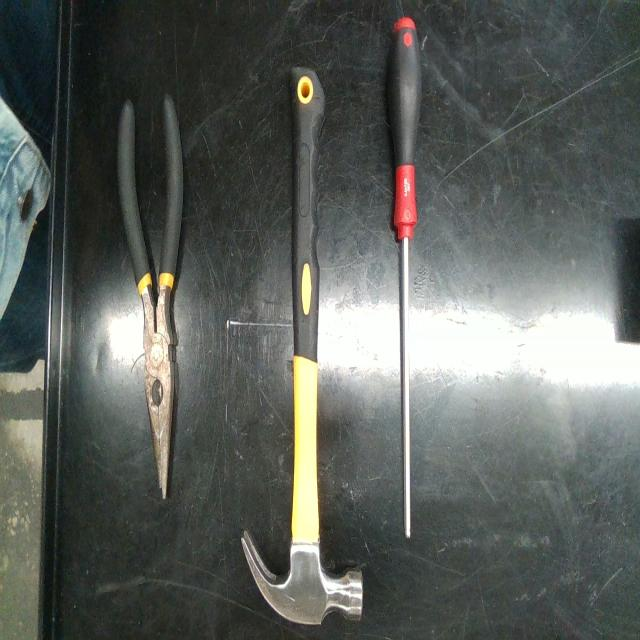Screwdriver: (389, 18, 421, 537)
